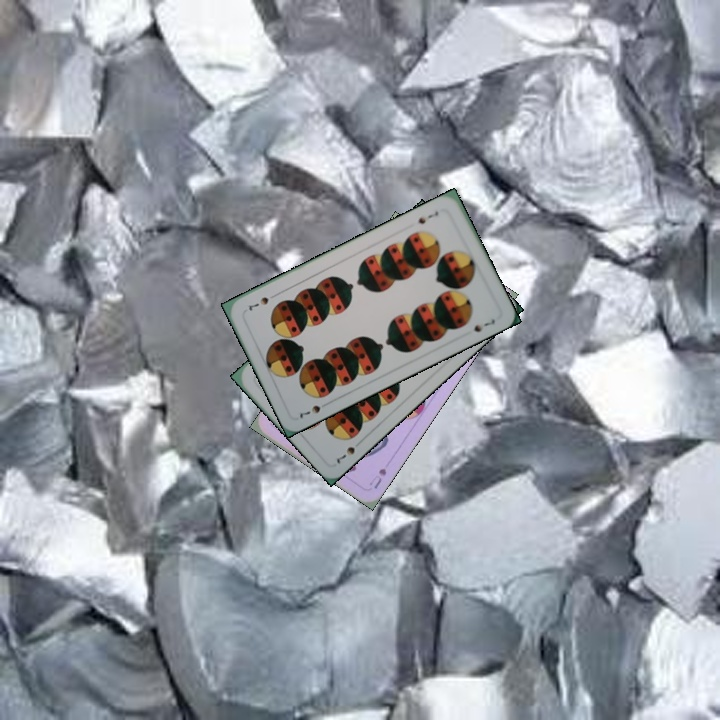S7: (332, 436, 365, 466), (296, 397, 332, 420), (414, 207, 441, 226)
SU: (365, 464, 389, 491)
